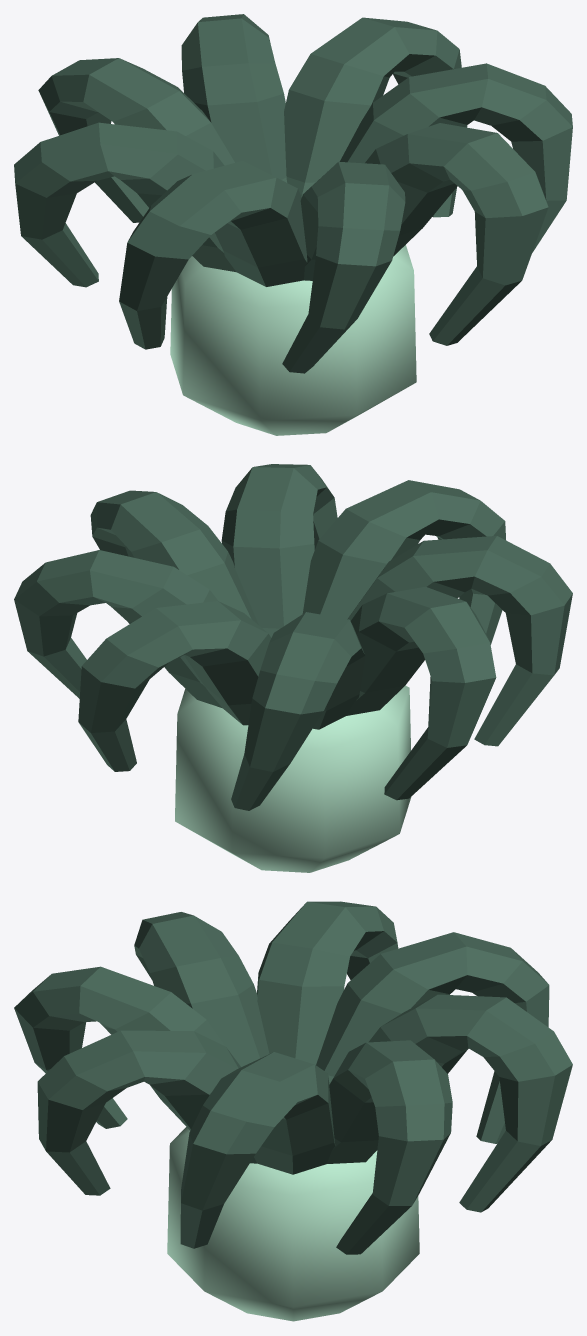
The model's file is Coral_14.fbx.
The picture shows the model from 3 angles, top to bottom: view 1: azimuth 30°, elevation 25°; view 2: azimuth 150°, elevation 25°; view 3: azimuth 270°, elevation 25°; orthographic projection. The views are drawn at different scales.
Visible parts, largest first — view 1: Coral_14; view 2: Coral_14; view 3: Coral_14.
Part boxes in pixels (x1,y1,x2,y2): Coral_14: (14,14,572,435); Coral_14: (14,464,572,872); Coral_14: (14,901,572,1321).
Bounding box in the file's own units: 81.53 × 49.12 × 81.53.
